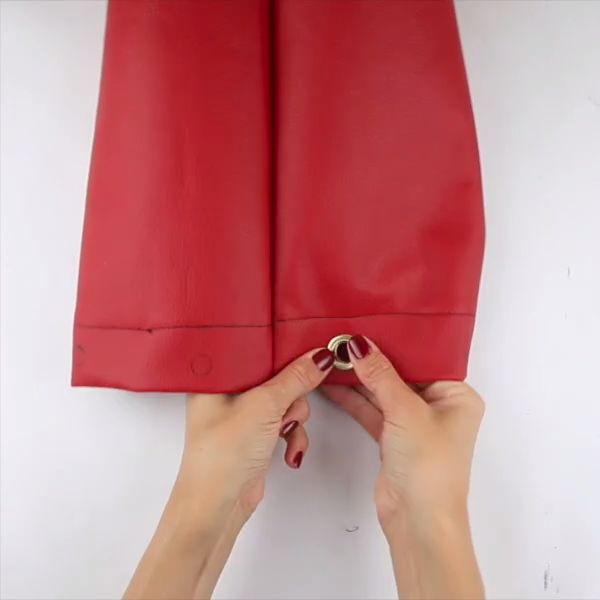cuero: (70, 1, 486, 394)
